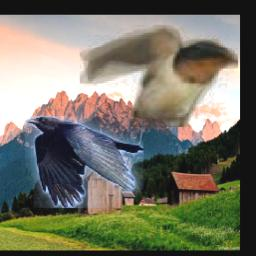Crow: (26, 116, 144, 208)
Swallow: (81, 26, 239, 128)
